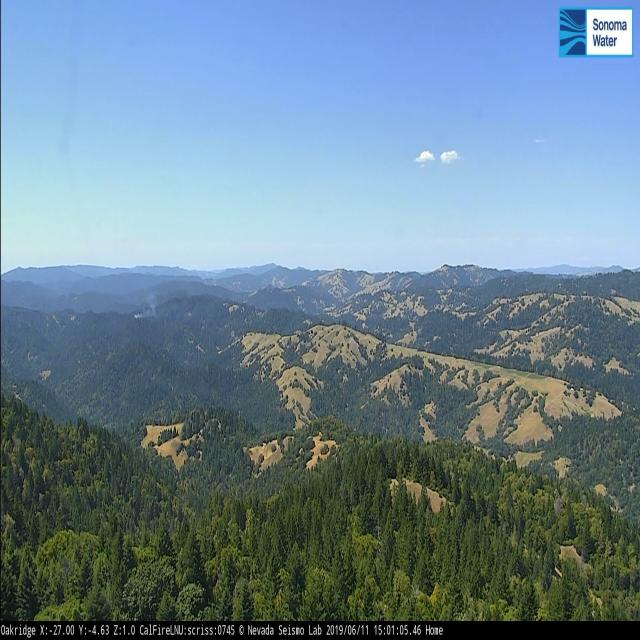smoke: (134, 294, 157, 320)
